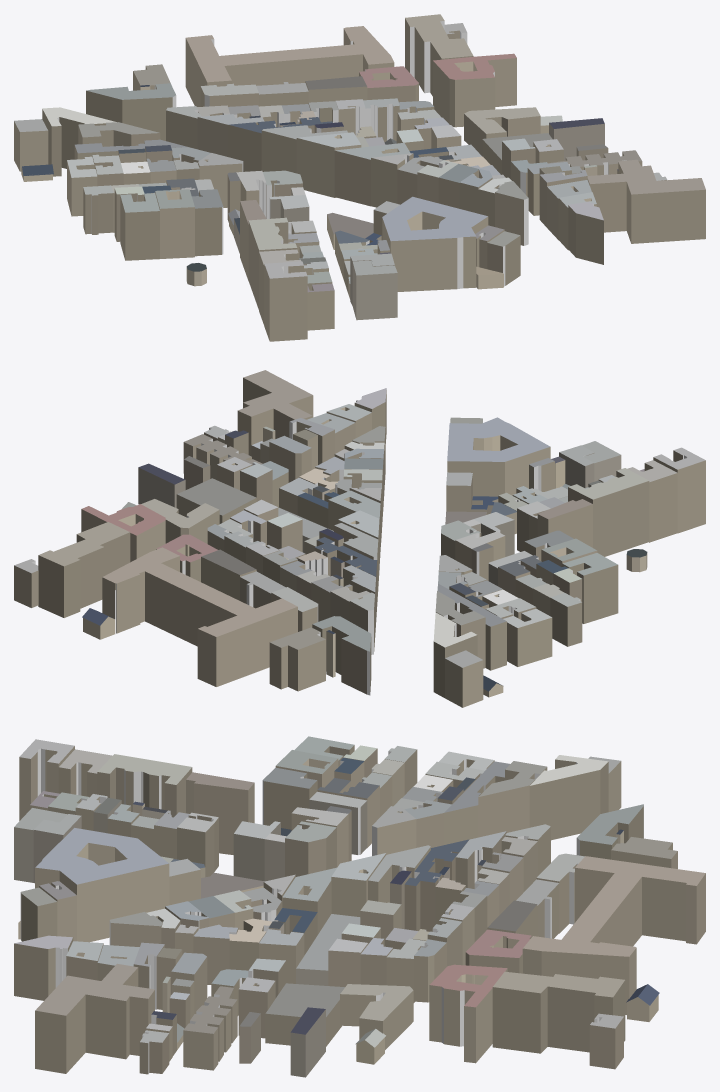
3 renders of one model, top to bottom at view 1: azimuth 30°, elevation 25°; view 2: azimuth 150°, elevation 25°; view 3: azimuth 270°, elevation 25°, orthographic. The views are drawn at different scales.
Visible parts, largest first — view 1: tuile; view 2: tuile; view 3: tuile.
Part boxes in pixels (bbox=[...]): tuile: bbox=[14, 14, 705, 341]; tuile: bbox=[14, 370, 705, 707]; tuile: bbox=[14, 736, 705, 1077].
Bounding box in the file's own units: 262 × 35.87 × 278.
